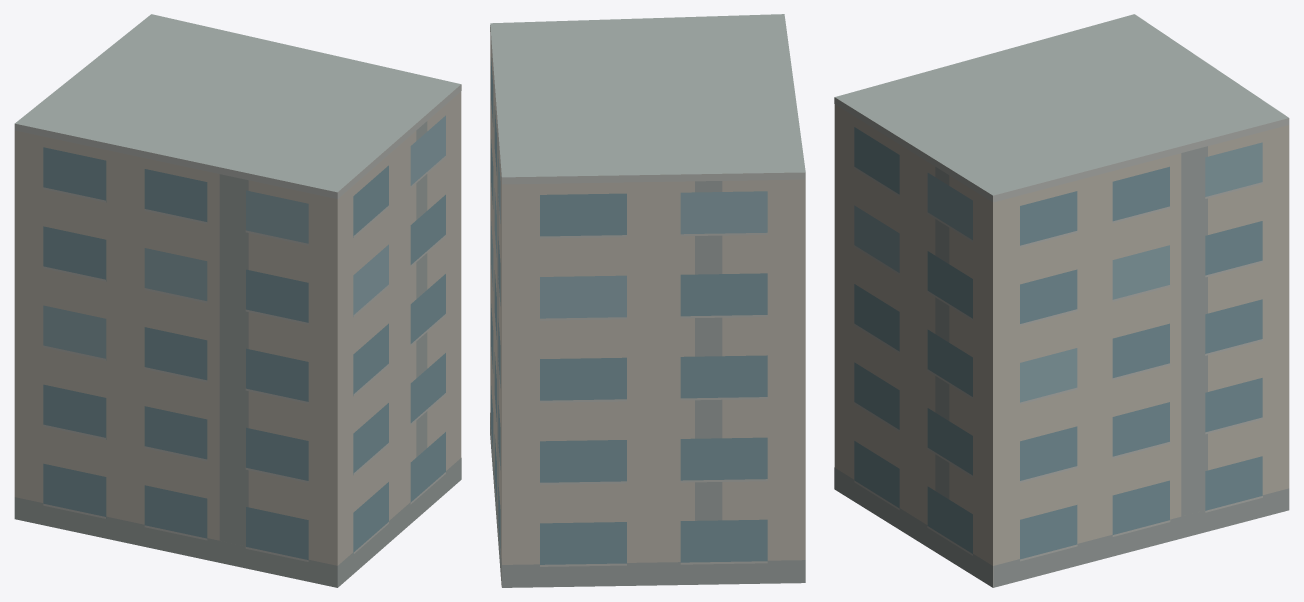
Rendered from residential-7b52a722-4d52-49d1-afb8-517947ab440f.glb.
3 renders of one model, left to right at view 1: azimuth 30°, elevation 25°; view 2: azimuth 150°, elevation 25°; view 3: azimuth 270°, elevation 25°, orthographic. The views are drawn at different scales.
Parts seen in each view (by area): view 1: residential-7b52a722-4d52-49d1-afb8-517947ab440f.tmp; view 2: residential-7b52a722-4d52-49d1-afb8-517947ab440f.tmp; view 3: residential-7b52a722-4d52-49d1-afb8-517947ab440f.tmp.
Boxes of the visible parts, bbox=[...] form: residential-7b52a722-4d52-49d1-afb8-517947ab440f.tmp: bbox=[14, 14, 461, 587]; residential-7b52a722-4d52-49d1-afb8-517947ab440f.tmp: bbox=[490, 14, 805, 587]; residential-7b52a722-4d52-49d1-afb8-517947ab440f.tmp: bbox=[834, 14, 1289, 587].
Size of the model in its own units: 14.01 by 14.1 by 14.83.
